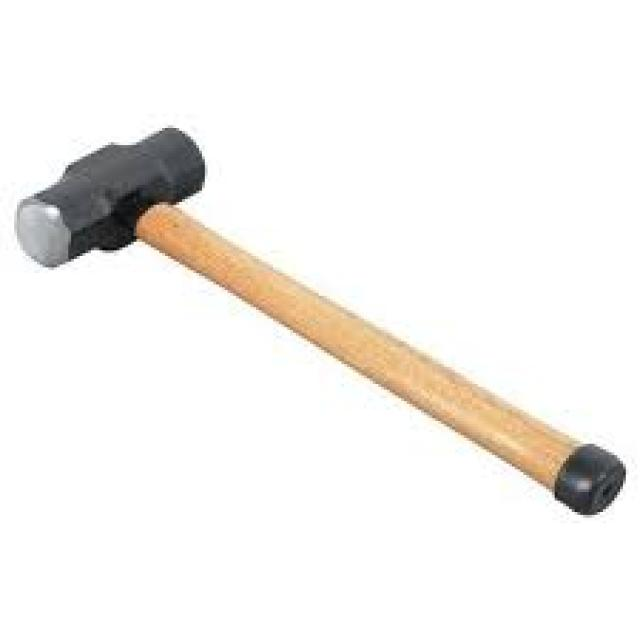hammer: (15, 25, 623, 522)
